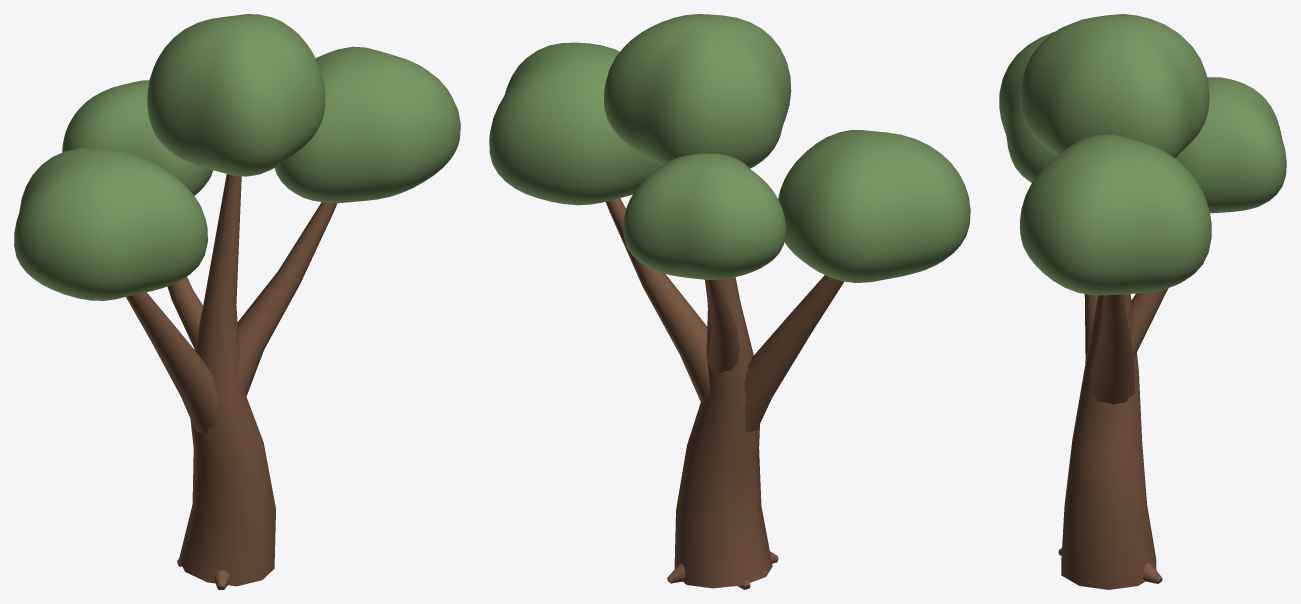
File: deciduous_tree_3.glb
3 renders of one model, left to right at view 1: azimuth 30°, elevation 25°; view 2: azimuth 150°, elevation 25°; view 3: azimuth 270°, elevation 25°, orthographic. The views are drawn at different scales.
Visible parts, largest first — view 1: DeciduousTree3; view 2: DeciduousTree3; view 3: DeciduousTree3.
Part boxes in pixels (x1,y1,x2,y2): DeciduousTree3: (14, 14, 460, 589); DeciduousTree3: (489, 14, 970, 589); DeciduousTree3: (999, 14, 1286, 589).
Size of the model in its own units: 8.5 by 10 by 4.7.
